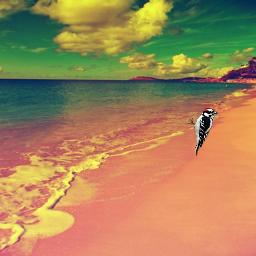Woodpecker: (187, 108, 218, 156)
